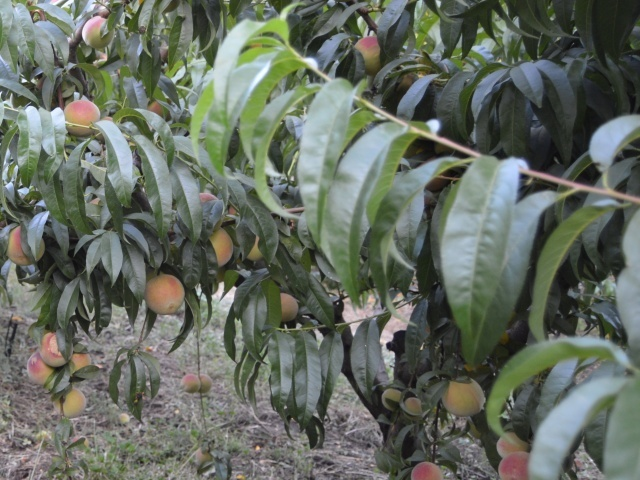peach: (437, 372, 488, 420), (141, 270, 187, 319), (3, 222, 48, 268), (59, 98, 102, 138), (202, 224, 239, 269), (50, 381, 89, 422), (349, 32, 387, 74), (35, 329, 74, 367), (81, 14, 119, 53), (492, 426, 532, 462), (495, 448, 541, 479), (21, 351, 58, 387), (273, 291, 304, 324), (65, 345, 97, 375), (377, 383, 409, 412), (396, 394, 425, 420), (406, 459, 443, 479), (177, 370, 203, 395), (194, 370, 216, 396)
